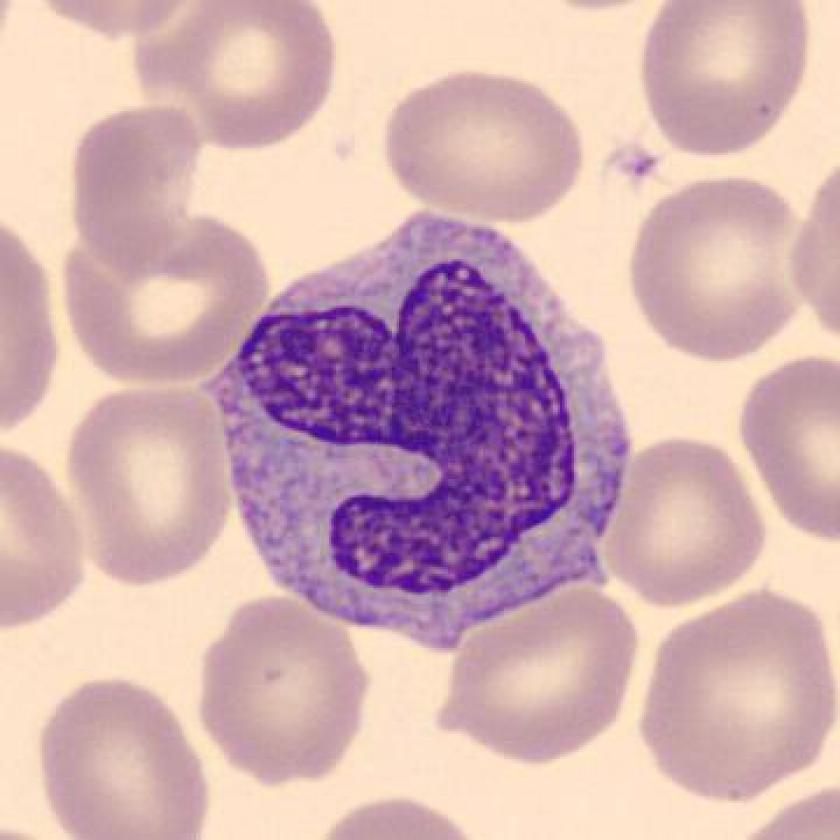monocyte: (190, 186, 657, 663)
